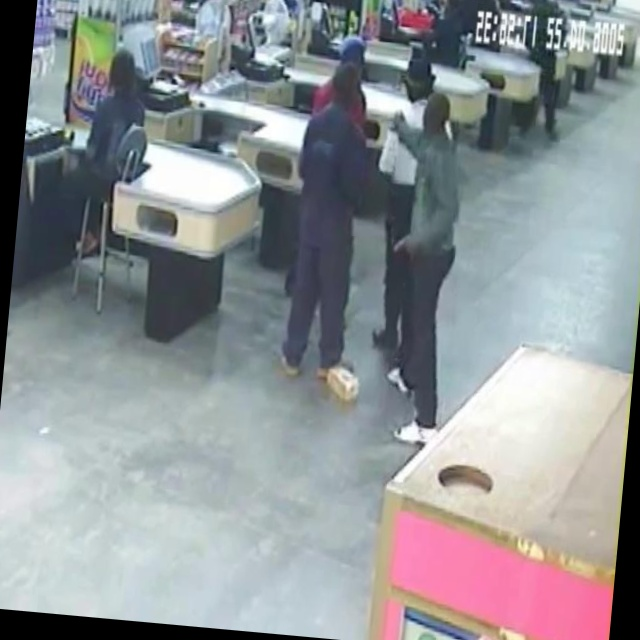gun: (389, 224, 421, 260)
